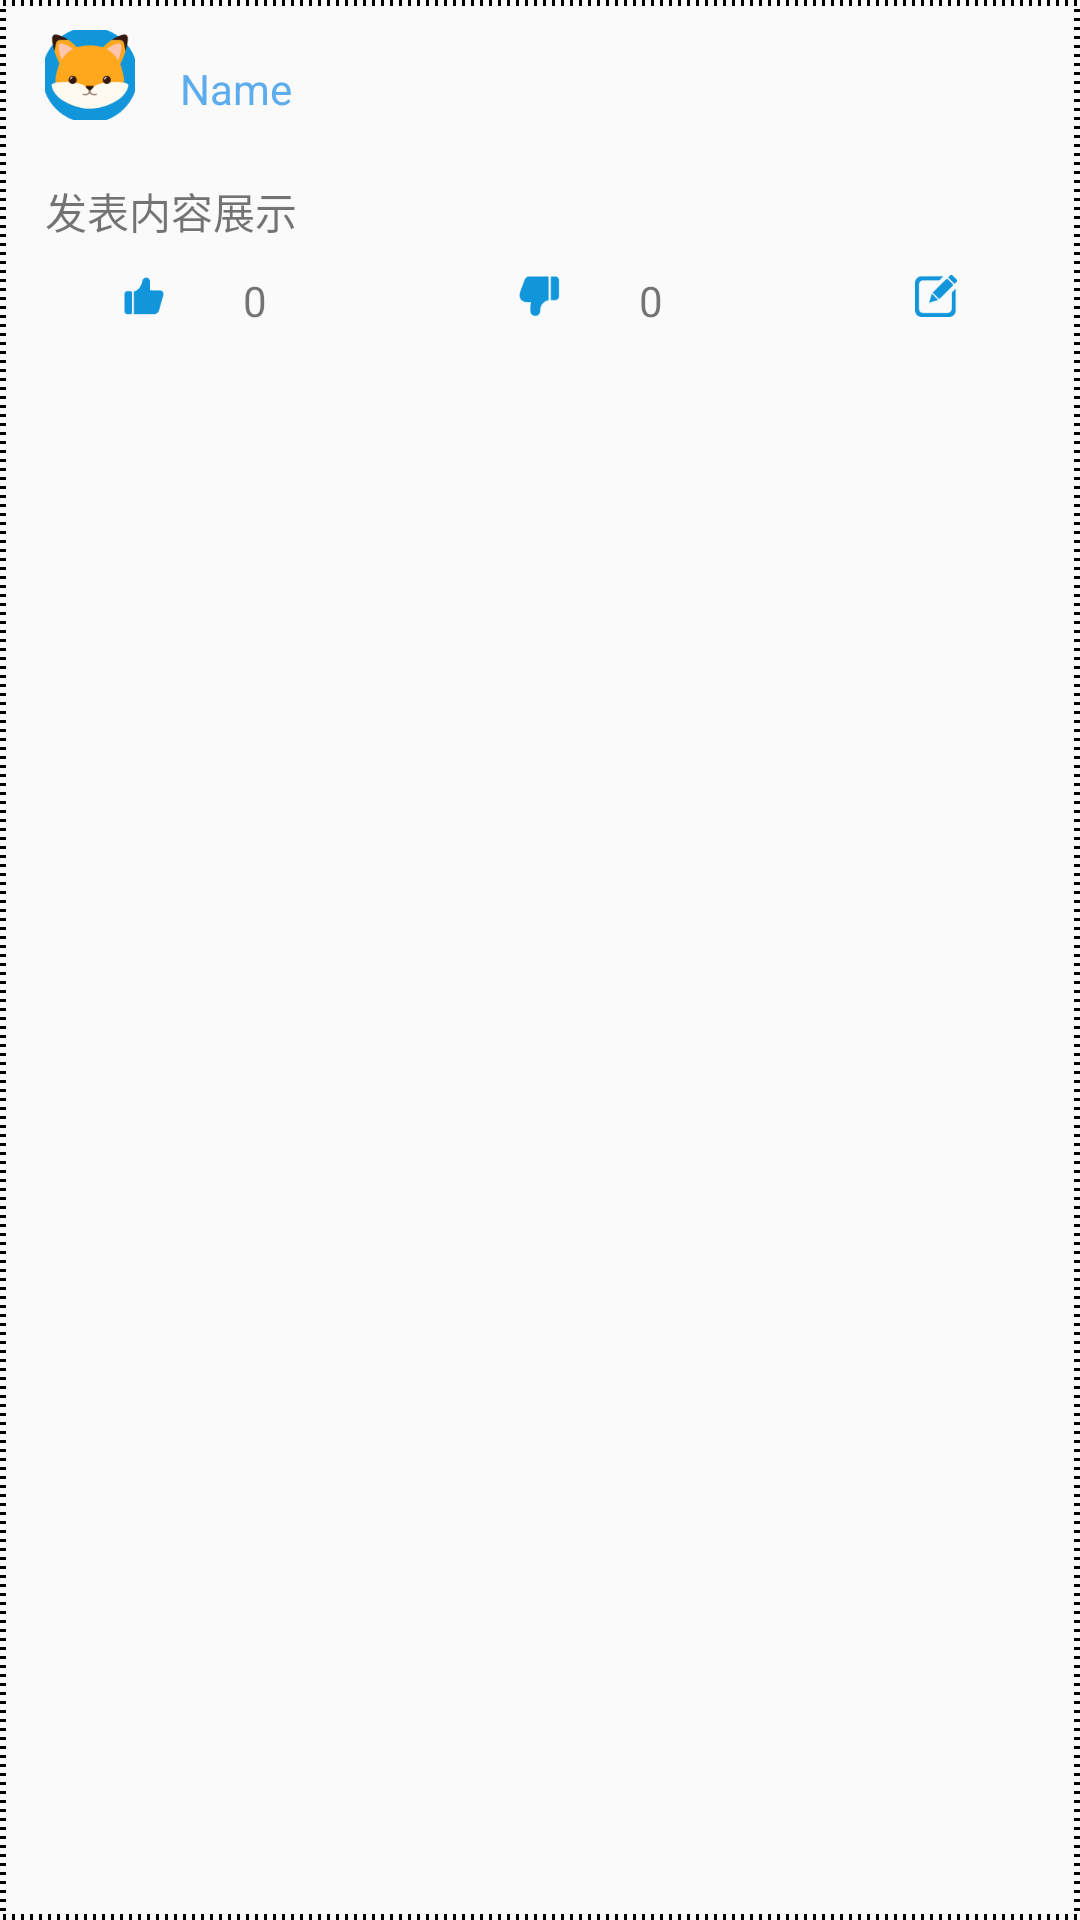

Where to tap for icons on this 1080 x 1920 app screen, as point (x, y):
bad: point (539, 296)
comment: point (936, 296)
good: point (144, 296)
userinfo: point (90, 75)
